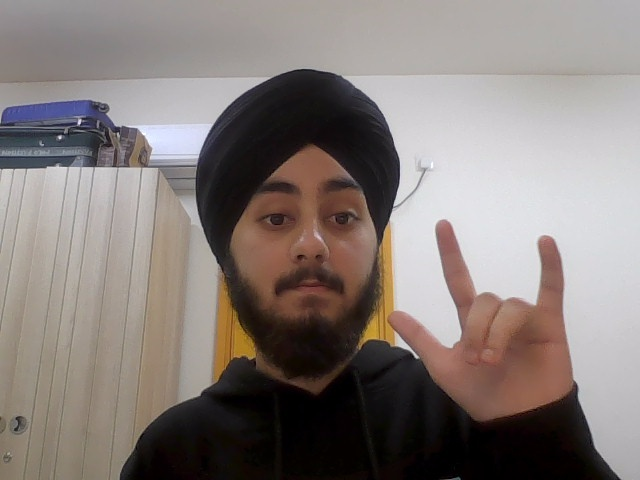ILoveYou: (386, 213, 589, 425)
